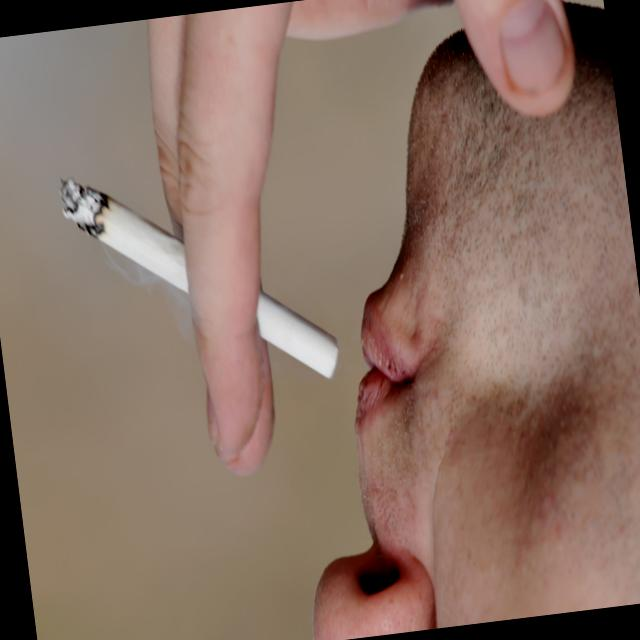cigarette: (31, 140, 352, 418)
